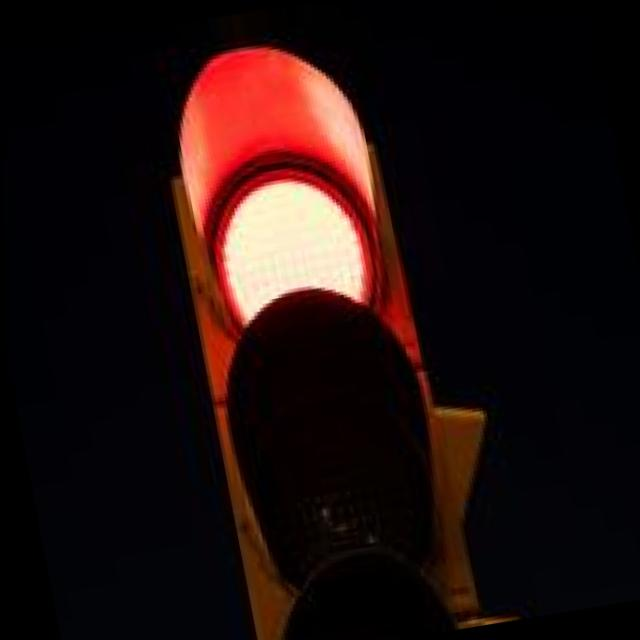red_light: (121, 27, 473, 350)
